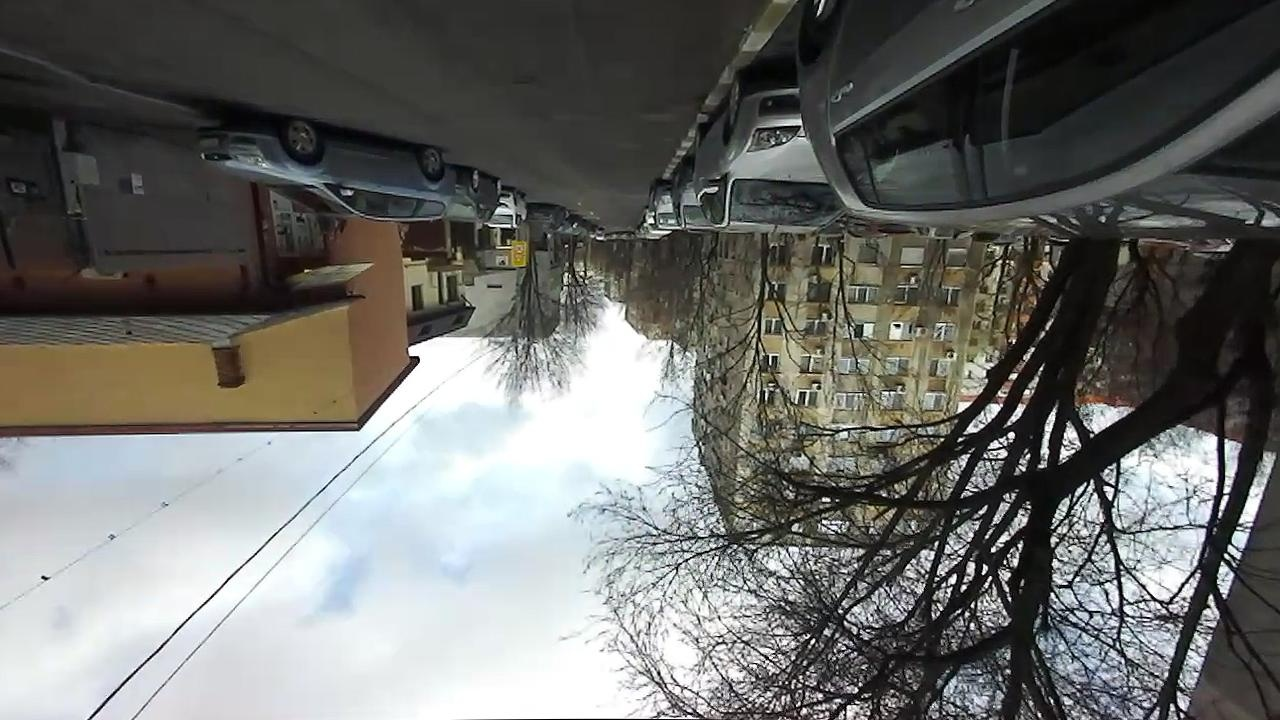pothole: (505, 68, 541, 94)
